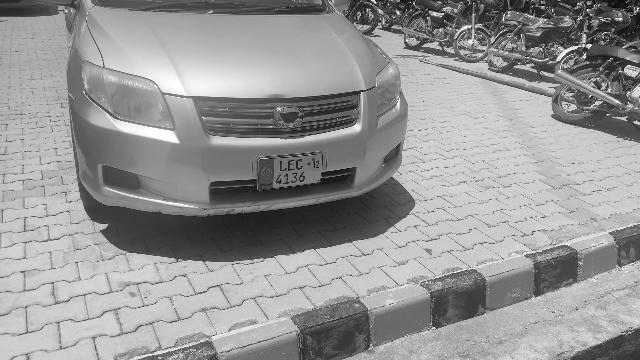Number: (274, 156, 307, 187)
